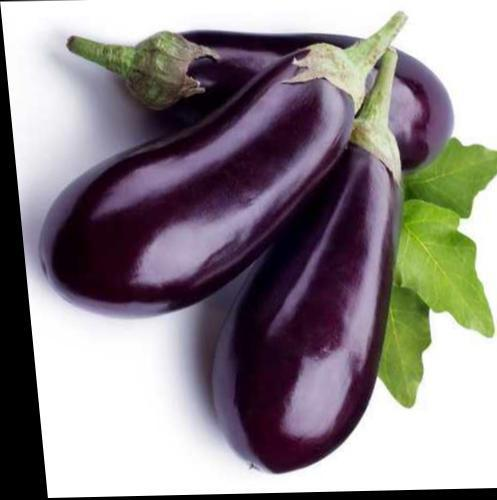eggplant: (34, 17, 490, 466)
